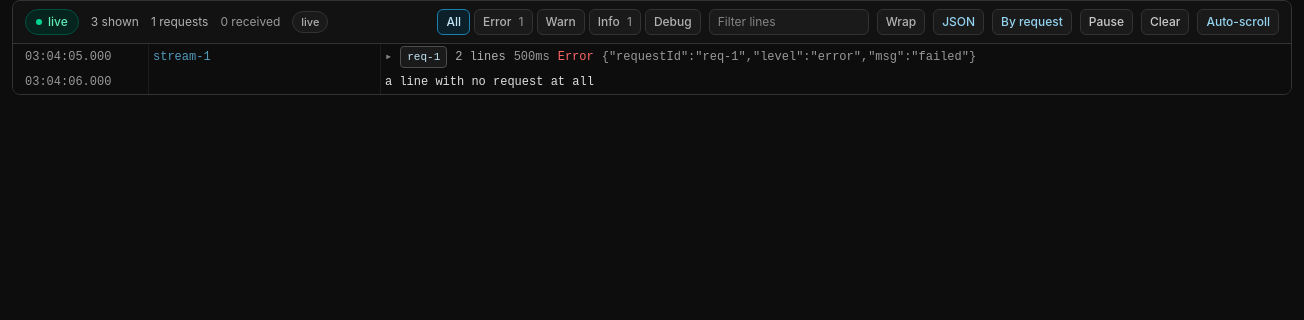
LogViewer: grouping by request › opens a request to show every line it holds
The width and height of the screenshot is (1304, 320).
Click the button with test id "request-group-summary" at x=652, y=57, box 13,44 -> 1291,70
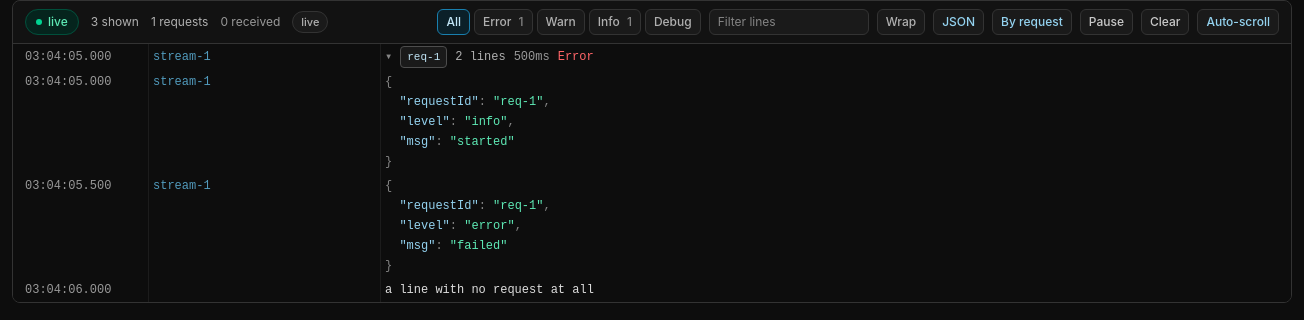
Now the number of list items with test id "log-line" is 3, box 25,75 -> 551,169; 25,179 -> 551,273; 25,283 -> 594,297
